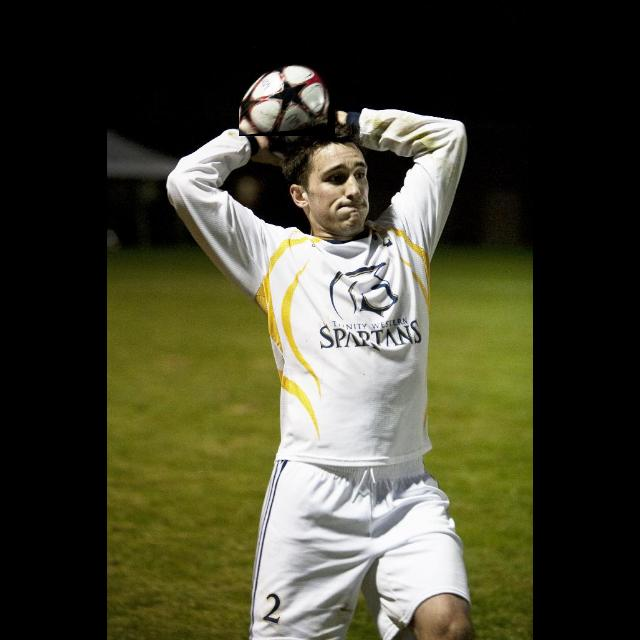Football: (239, 62, 335, 136)
